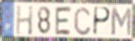8: (37, 6, 52, 36)
C: (73, 6, 92, 37)
E: (54, 6, 73, 37)
H: (15, 4, 34, 36)
M: (110, 7, 132, 38)
P: (92, 6, 111, 37)
